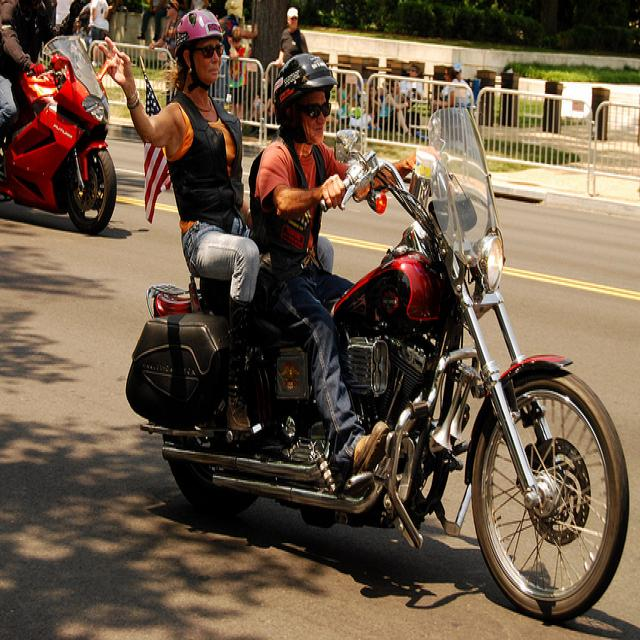motor: (122, 103, 633, 548), (1, 33, 117, 235)
